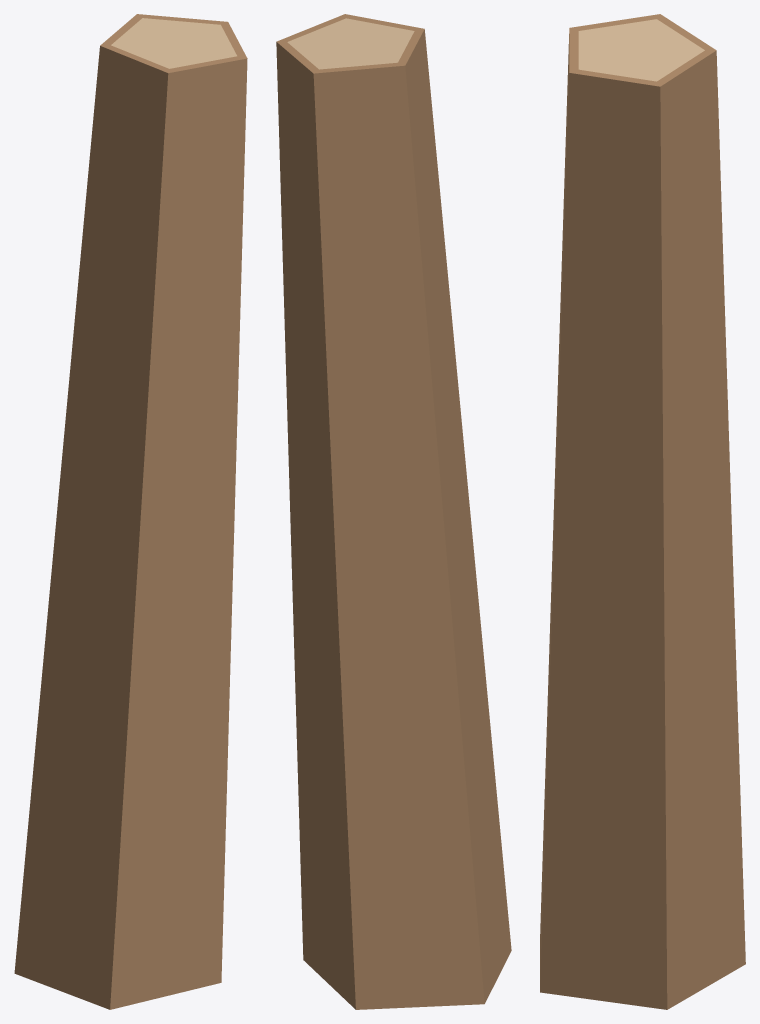
The model's file is Palm_Stump_01.fbx.
3 renders of one model, left to right at view 1: azimuth 30°, elevation 25°; view 2: azimuth 150°, elevation 25°; view 3: azimuth 270°, elevation 25°, orthographic. The views are drawn at different scales.
Parts seen in each view (by area): view 1: Palm_Stump_01; view 2: Palm_Stump_01; view 3: Palm_Stump_01.
Boxes of the visible parts, <box> form: Palm_Stump_01: <box>14,14,247,1009</box>; Palm_Stump_01: <box>276,14,511,1009</box>; Palm_Stump_01: <box>540,14,745,1009</box>.
Bounding box in the file's own units: 46.89 × 194 × 38.21.
